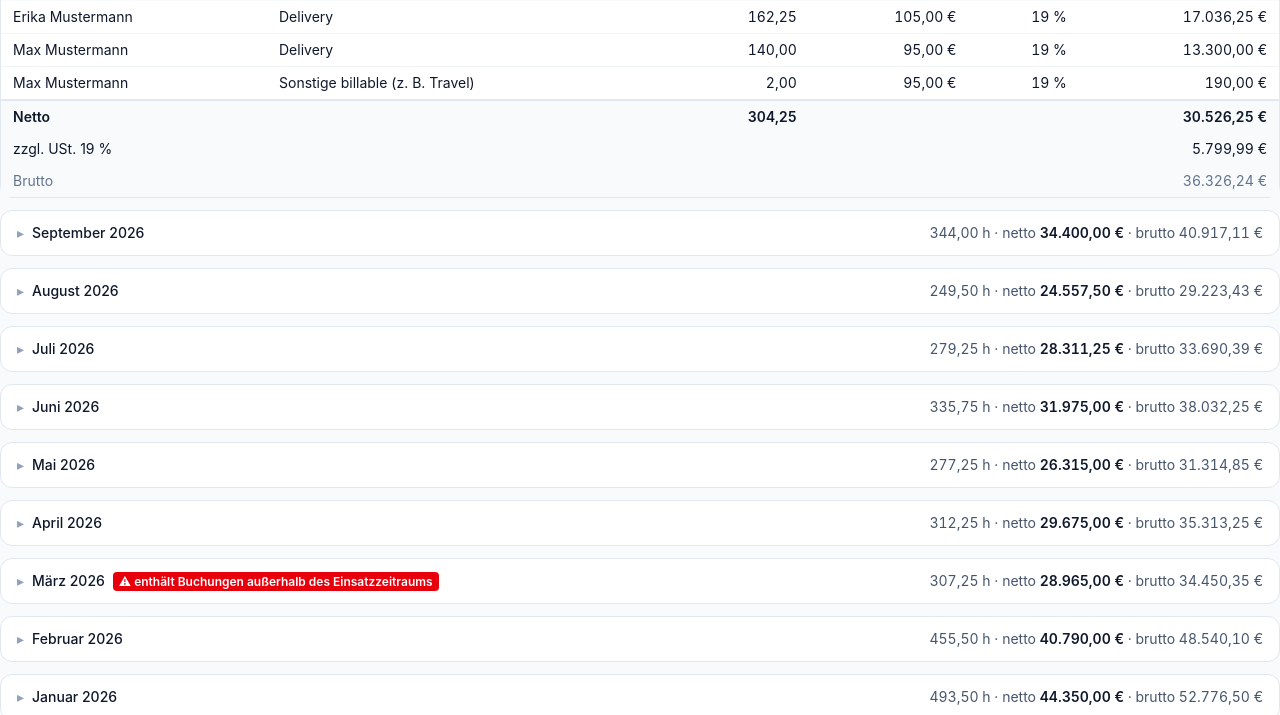
Test case: InvoiceView › zeigt Personen mit „darf buchen“ als eigene Spalte und Position
The width and height of the screenshot is (1280, 715).
(page scrolled)
Step 1. Click the text "Juni 2026" → (58, 407), box [17,397,99,417]
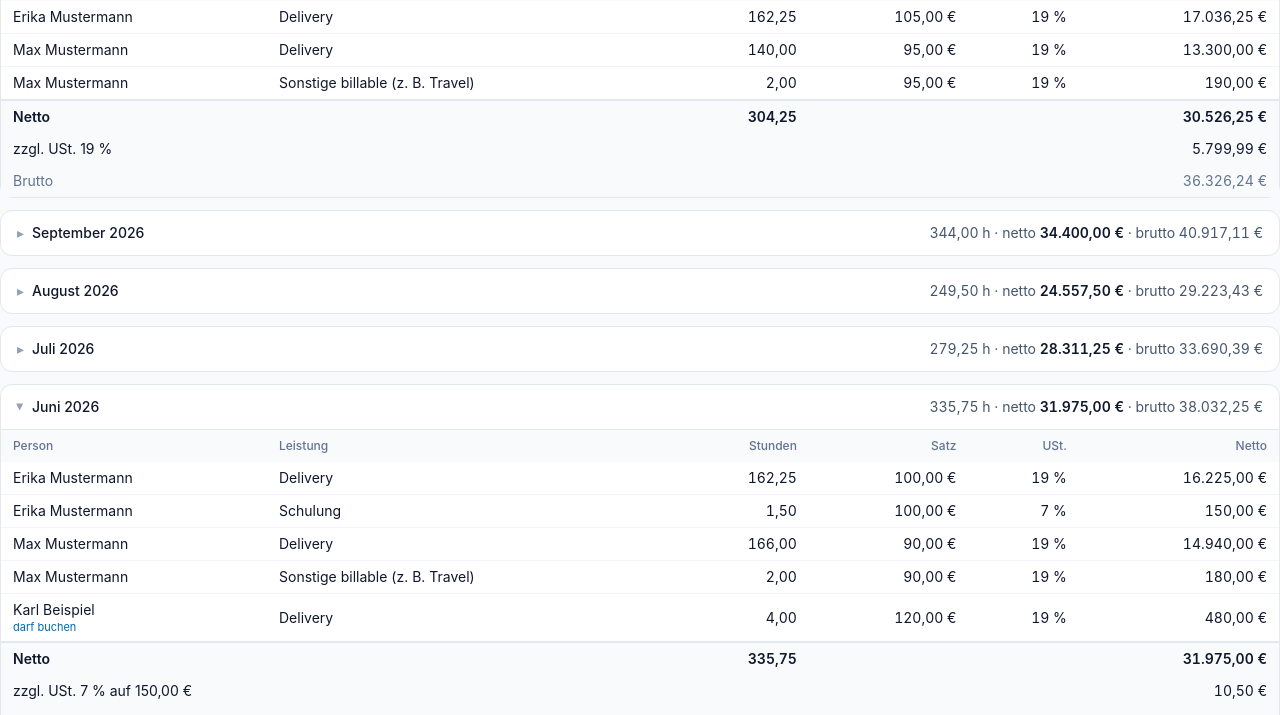
Result: the text "Karl Beispiel" shows "darf buchen" at [13,620,76,634]
Result: the text "Karl Beispiel" shows "Delivery" at [279,608,333,626]
